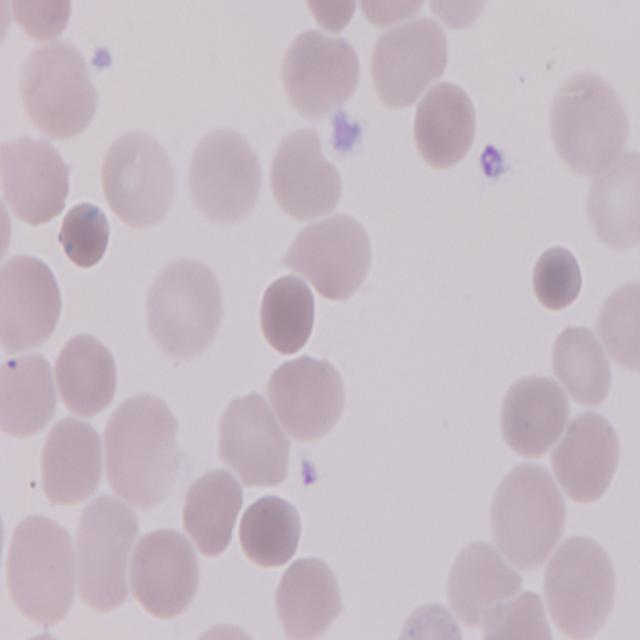RBC: (545, 70, 637, 178), (19, 34, 104, 144), (142, 255, 223, 367), (540, 527, 619, 640), (265, 118, 349, 222), (6, 510, 78, 630), (100, 126, 178, 232), (280, 23, 362, 122), (491, 462, 566, 570), (368, 11, 452, 106), (188, 124, 266, 226), (293, 206, 374, 304), (266, 350, 348, 444), (218, 386, 291, 488), (0, 134, 75, 228), (128, 527, 202, 622), (408, 74, 478, 173), (555, 403, 624, 503), (496, 370, 570, 463), (0, 248, 63, 354), (270, 551, 344, 640), (42, 411, 108, 507), (547, 319, 614, 410), (178, 463, 243, 556), (51, 332, 119, 418), (0, 349, 55, 438), (593, 272, 640, 374), (394, 600, 466, 640), (424, 0, 501, 28), (179, 620, 269, 640), (0, 188, 13, 274)
Spherocyte: (237, 490, 305, 570), (258, 270, 318, 358), (58, 197, 113, 270), (530, 242, 588, 310)
